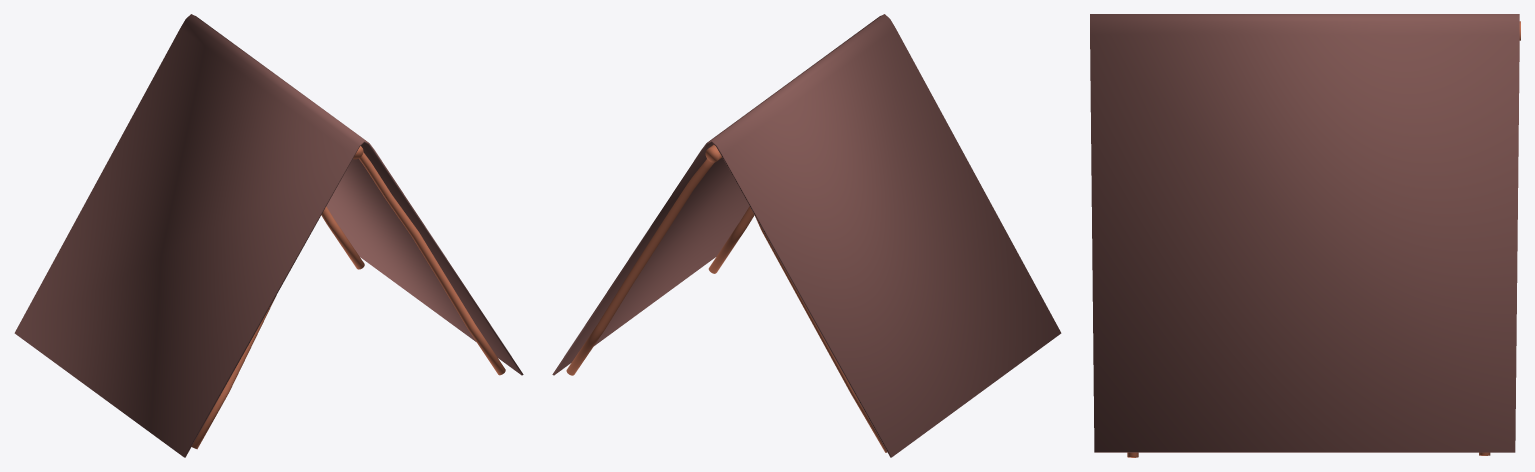
The model's file is Tenda.fbx.
The picture shows the model from 3 angles, left to right: view 1: azimuth 30°, elevation 25°; view 2: azimuth 150°, elevation 25°; view 3: azimuth 270°, elevation 25°; orthographic projection. The views are drawn at different scales.
Visible parts, largest first — view 1: Tenda.retopo, Tnda.Base.Vertical.retopo; view 2: Tenda.retopo, Tnda.Base.Vertical.retopo; view 3: Tenda.retopo.
Boxes of the visible parts, x1,y1,x2,y2 form: Tenda.retopo: (14, 14, 523, 457); Tnda.Base.Vertical.retopo: (191, 152, 505, 449); Tenda.retopo: (552, 14, 1061, 457); Tnda.Base.Vertical.retopo: (566, 159, 886, 452); Tenda.retopo: (1090, 14, 1519, 452).
Size of the model in its own units: 204 by 163 by 181.
